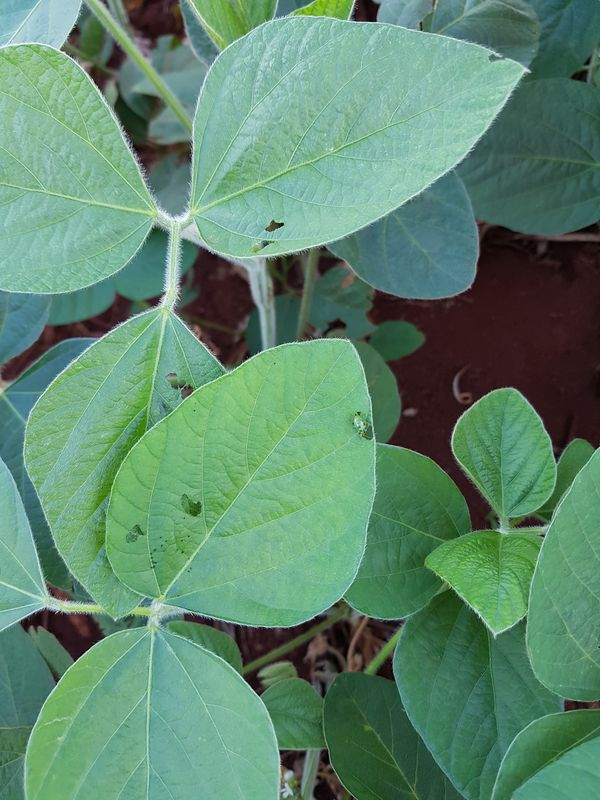Diabrotica_speciosa: (343, 407, 380, 443)
